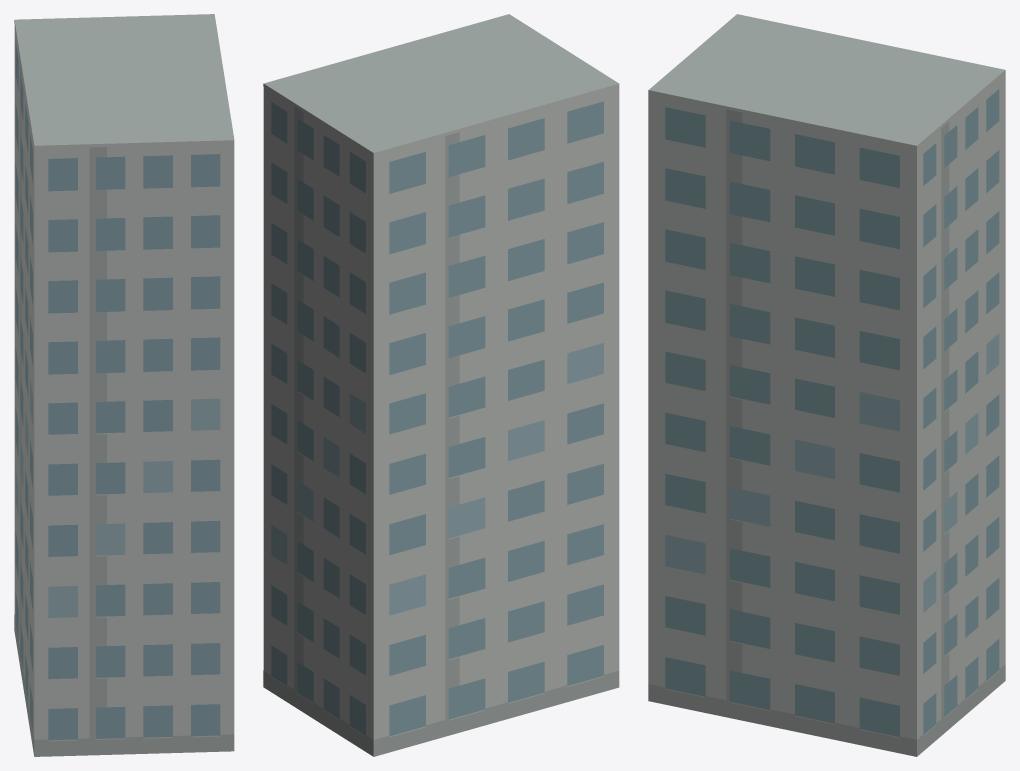
Rendered from residential-7b760e87-5a0c-48be-831d-ef238c6e8964.glb.
3 renders of one model, left to right at view 1: azimuth 30°, elevation 25°; view 2: azimuth 150°, elevation 25°; view 3: azimuth 270°, elevation 25°, orthographic.
Parts seen in each view (by area): view 1: residential-7b760e87-5a0c-48be-831d-ef238c6e8964.tmp; view 2: residential-7b760e87-5a0c-48be-831d-ef238c6e8964.tmp; view 3: residential-7b760e87-5a0c-48be-831d-ef238c6e8964.tmp.
Boxes of the visible parts, left/top/right/bottom form: residential-7b760e87-5a0c-48be-831d-ef238c6e8964.tmp: left=14, top=14, right=234, bottom=756; residential-7b760e87-5a0c-48be-831d-ef238c6e8964.tmp: left=263, top=14, right=619, bottom=756; residential-7b760e87-5a0c-48be-831d-ef238c6e8964.tmp: left=648, top=14, right=1005, bottom=756.
Size of the model in its own units: 21.3 by 46 by 24.37.
